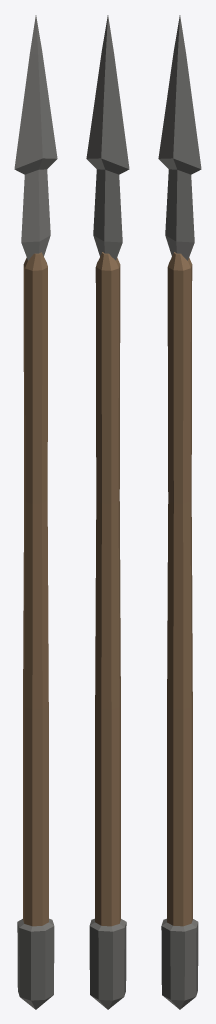
Rendered from SM_pwe_rome_javelin_01.fbx.
3 renders of one model, left to right at view 1: azimuth 30°, elevation 25°; view 2: azimuth 150°, elevation 25°; view 3: azimuth 330°, elevation 25°, orthographic.
Parts seen in each view (by area): view 1: SM_pwe_rome_javelin_01; view 2: SM_pwe_rome_javelin_01; view 3: SM_pwe_rome_javelin_01.
Boxes of the visible parts, x1,y1,x2,y2 form: SM_pwe_rome_javelin_01: (14, 15, 57, 1009); SM_pwe_rome_javelin_01: (86, 15, 129, 1009); SM_pwe_rome_javelin_01: (158, 15, 201, 1009).
Size of the model in its own units: 9.05 by 200 by 6.95.
